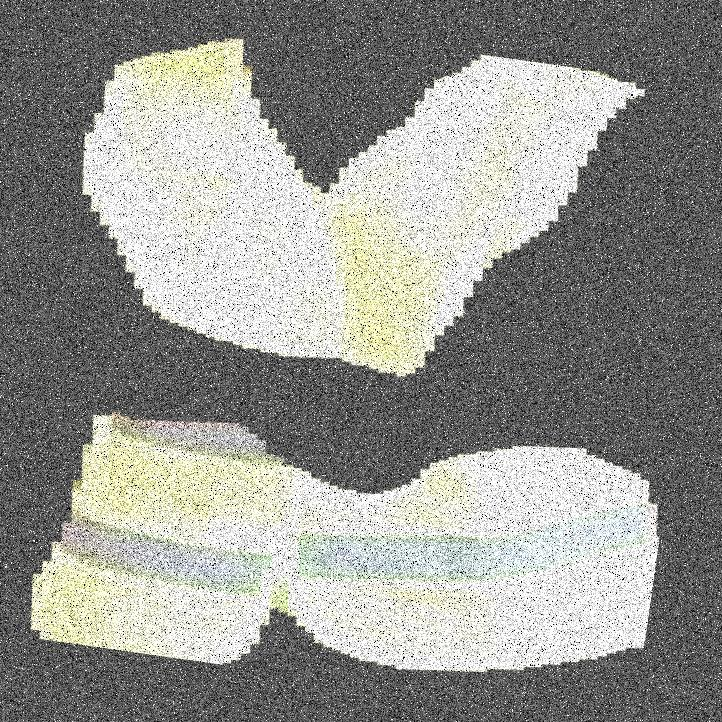Colete: (133, 0, 585, 721)
